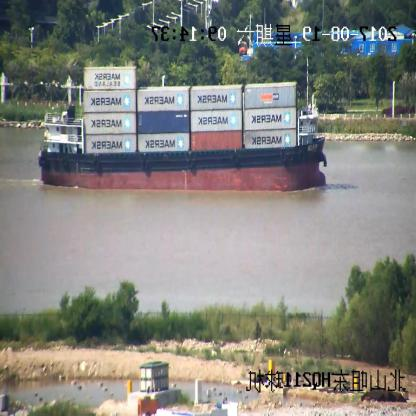Container Ship: (39, 59, 330, 193)
